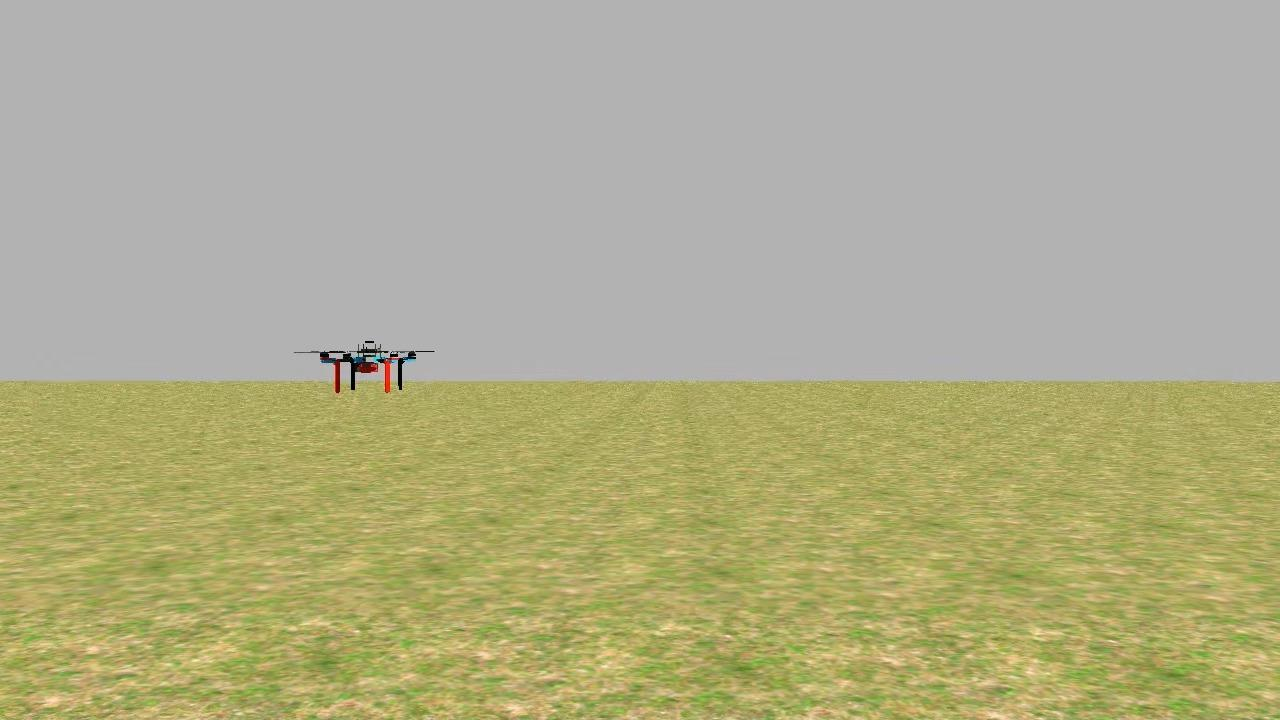UAV: (301, 335, 422, 396)
